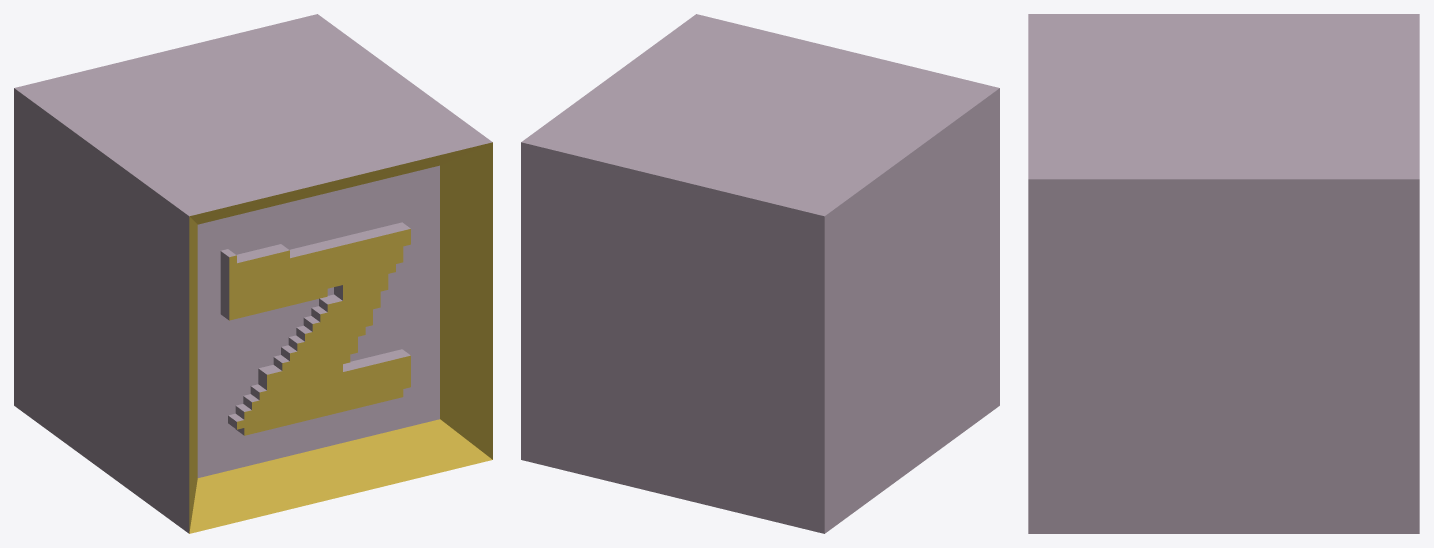
File: BlockZ.fbx
3 views of the same model, side by side, from view 1: azimuth 30°, elevation 25°; view 2: azimuth 150°, elevation 25°; view 3: azimuth 270°, elevation 25° (orthographic). The views are drawn at different scales.
Parts seen in each view (by area): view 1: Cube; view 2: Cube; view 3: Cube.
Part boxes in pixels (left/top/right/bottom): Cube: left=14, top=14, right=492, bottom=533; Cube: left=521, top=14, right=999, bottom=533; Cube: left=1028, top=14, right=1419, bottom=533.
Bounding box in the file's own units: 2000 × 2000 × 2000.
